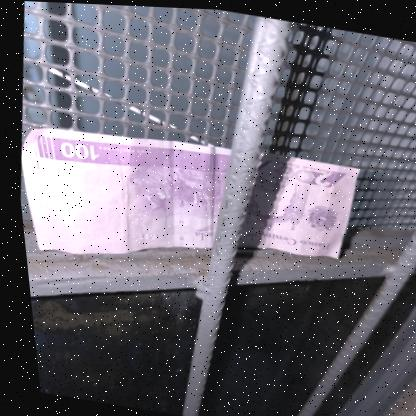one_hundred-back-vef: (9, 111, 366, 300)
